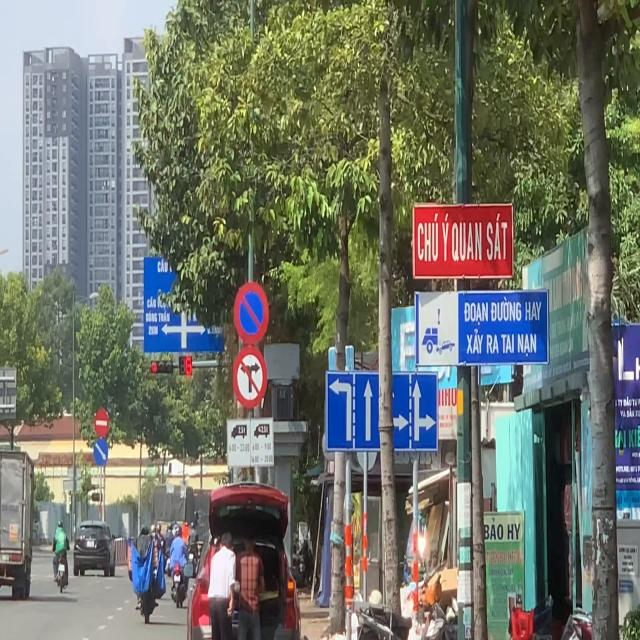Cam con lai: (233, 346, 267, 408)
Cam do: (233, 281, 270, 345)
Cam nguoc chieu: (95, 408, 108, 437)
Hieu lenh: (94, 438, 108, 466)
